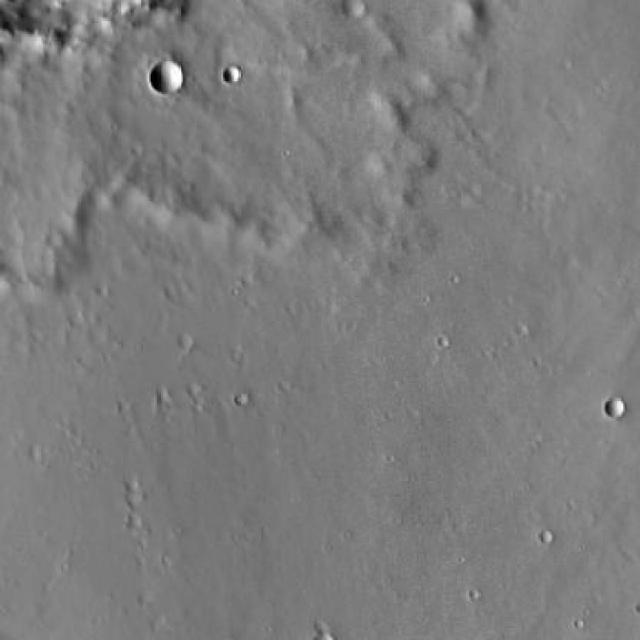crater: (148, 62, 180, 92), (607, 398, 625, 417), (224, 66, 241, 83), (357, 0, 377, 14)
